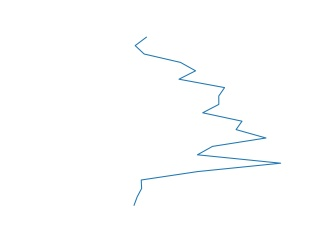floodSwamp: (130, 38, 283, 206)
